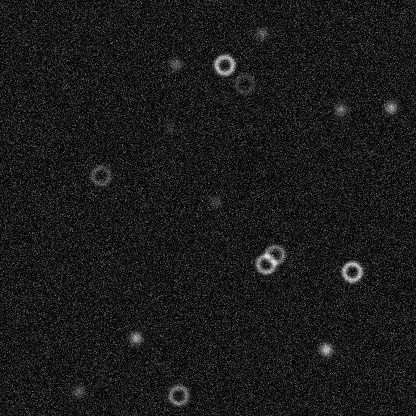Ring: (88, 163, 112, 187), (339, 259, 363, 283), (166, 383, 190, 407), (232, 71, 256, 95), (253, 251, 277, 275), (212, 52, 236, 76), (262, 242, 286, 266)
Spot: (382, 99, 398, 115), (207, 193, 223, 209), (317, 341, 333, 357), (160, 118, 176, 134), (254, 25, 270, 41), (127, 329, 143, 345), (332, 101, 348, 117), (70, 383, 86, 399), (167, 55, 183, 71)
